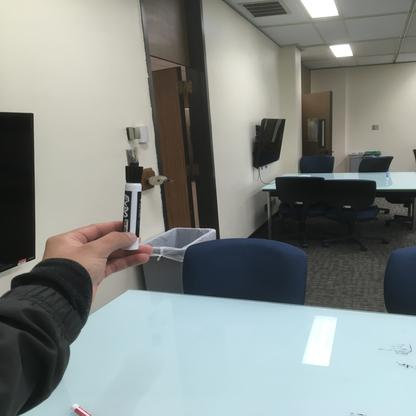expo_marker: (107, 156, 154, 255)
